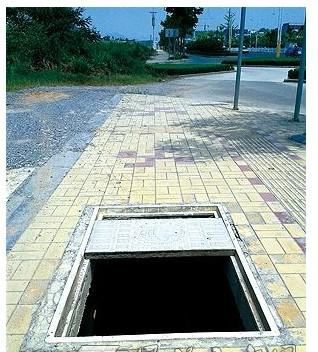lose: (39, 198, 296, 351)
